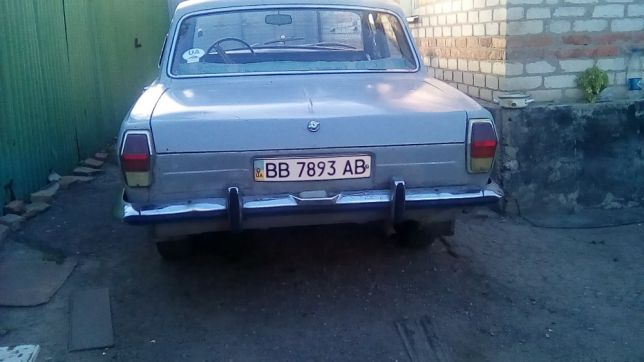car: (115, 4, 505, 259)
plate: (251, 156, 374, 181)
